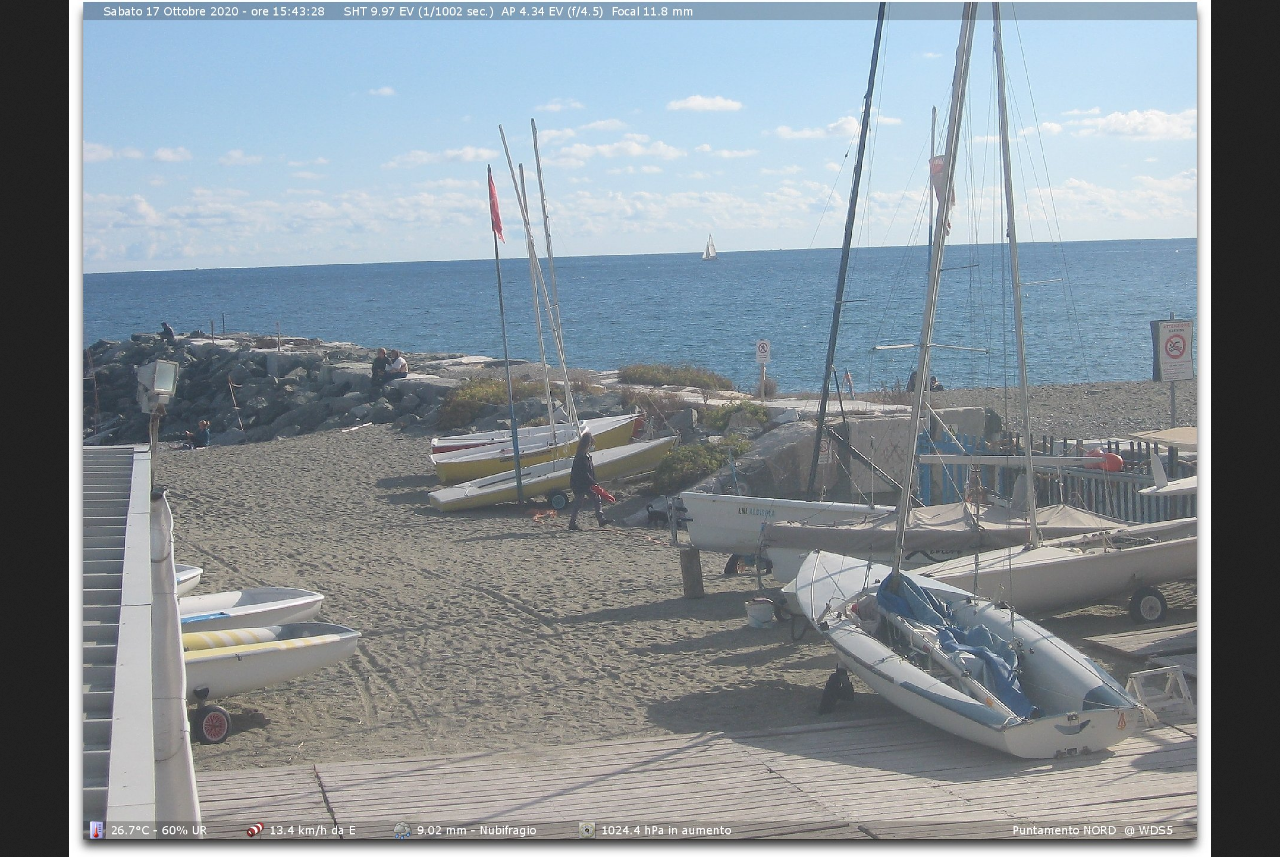no: (481, 160, 509, 246)
